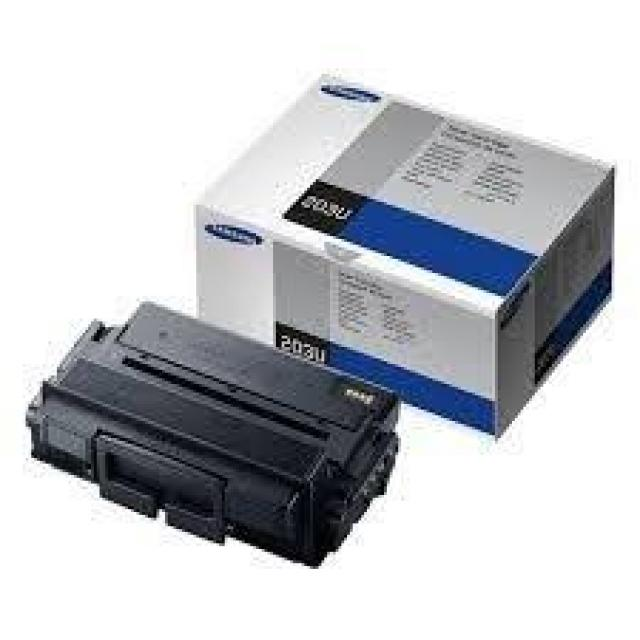printer: (31, 296, 402, 572)
